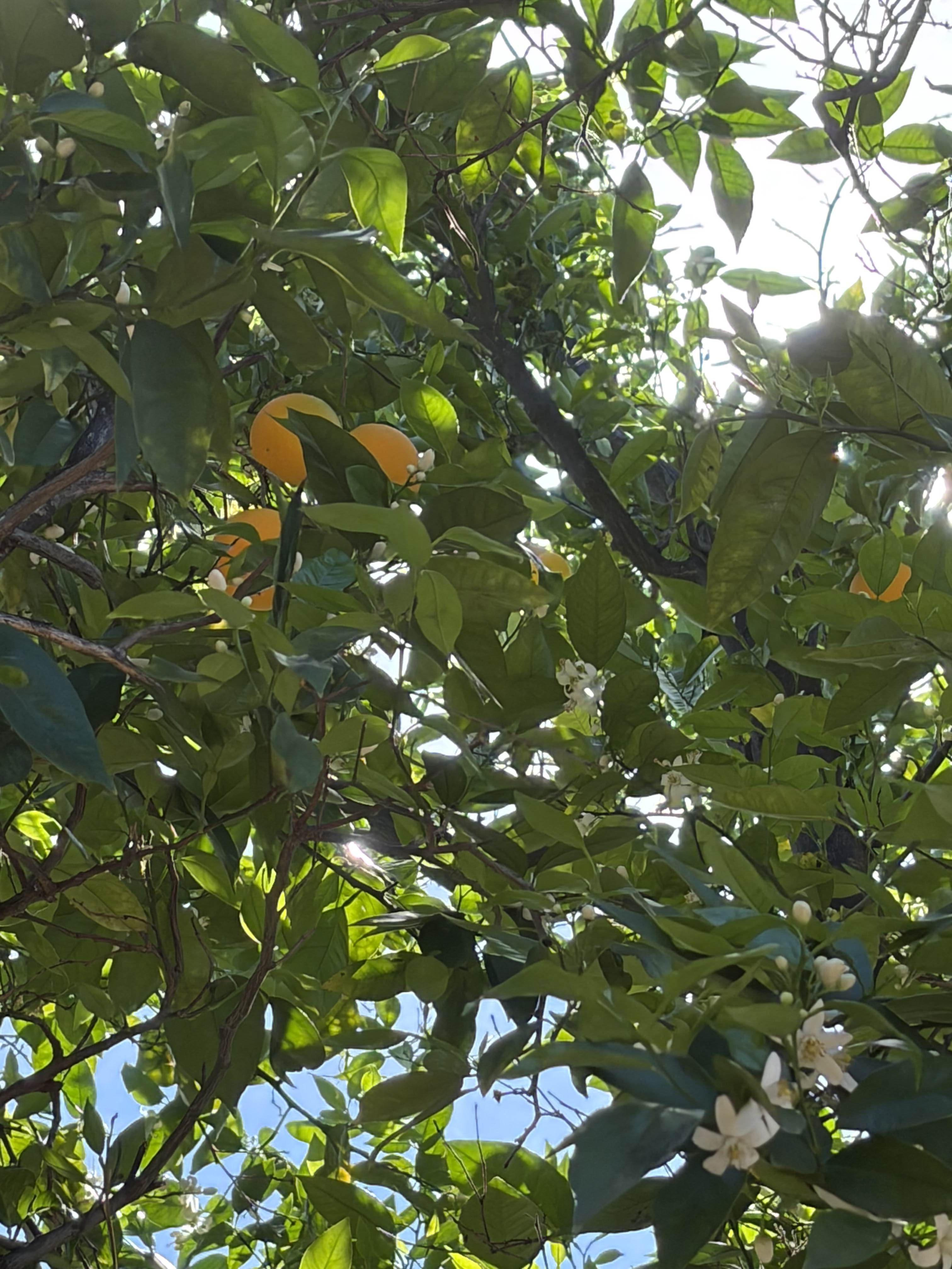orange: (250, 395, 342, 487), (211, 510, 282, 611), (350, 423, 418, 485), (849, 561, 911, 602), (531, 551, 572, 585)
